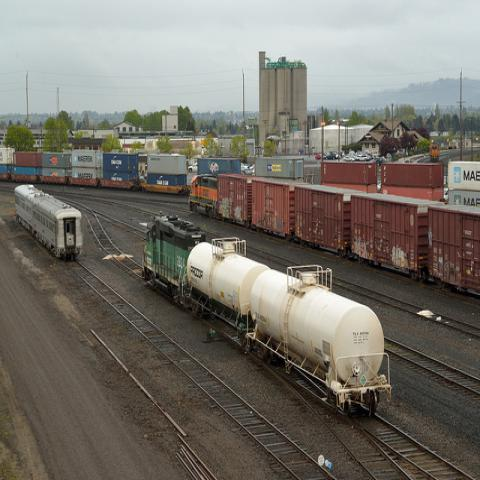car: (343, 156, 356, 161)
truck: (329, 151, 338, 158)
